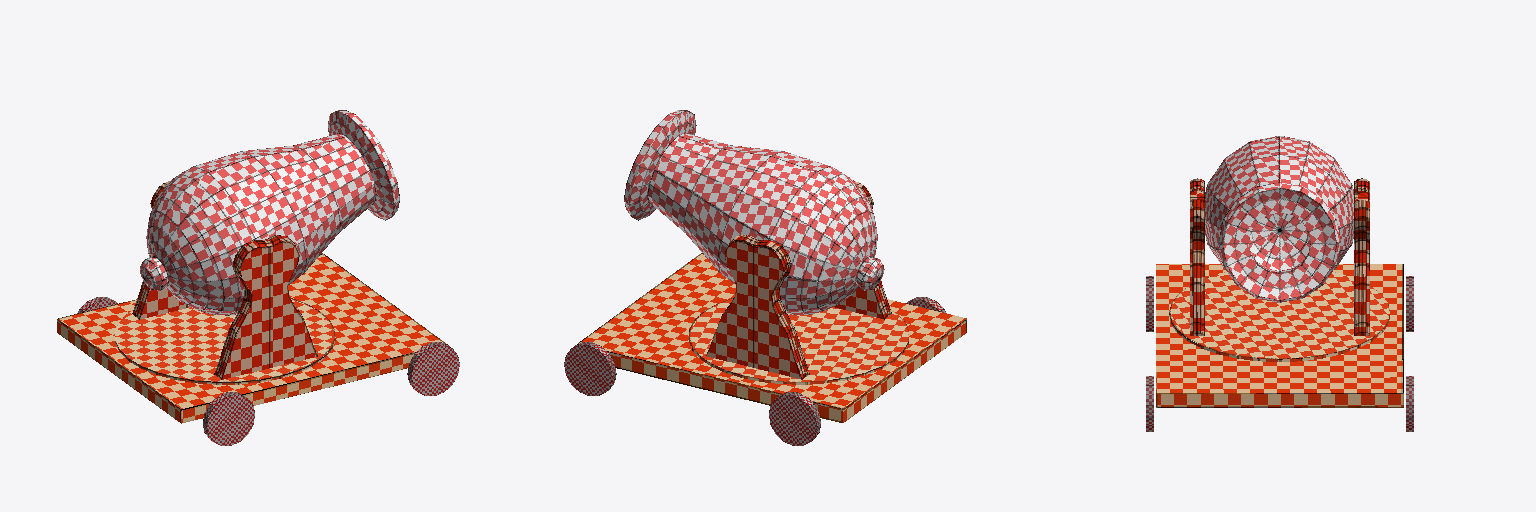
3 renders of one model, left to right at view 1: azimuth 30°, elevation 25°; view 2: azimuth 150°, elevation 25°; view 3: azimuth 270°, elevation 25°, orthographic.
Visible parts, largest first — view 1: Wheels_Circle.005; view 2: Wheels_Circle.005; view 3: Wheels_Circle.005.
Part boxes in pixels (x1,y1,x2,y2): Wheels_Circle.005: (57,110,459,445); Wheels_Circle.005: (564,110,966,445); Wheels_Circle.005: (1146,136,1413,431).
Bounding box in the file's own units: 4.01 × 3.32 × 3.41.
Materials: 1 (1 with a texture image).